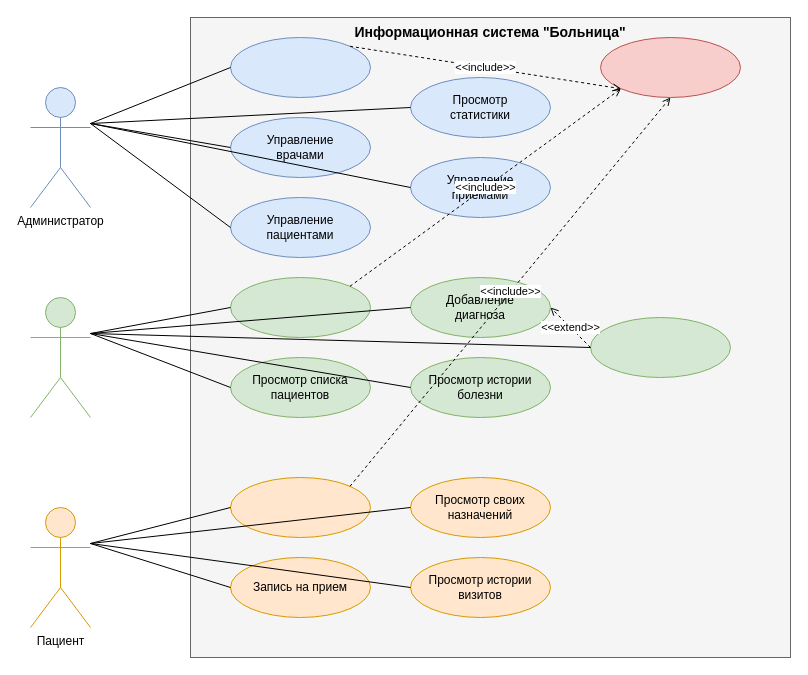
Image size: 808x675. Some labels were removed from this diagram. The shapes that lost their labels are listed below. From the top down, each one's centre as x and y in pixels, then its label:
the point at 300,67: Управление пользователями
the point at 670,67: Авторизация
the point at 300,307: Просмотр расписания
the point at 60,357: Врач
the point at 660,347: Назначение лечения
the point at 300,507: Просмотр своих данных
